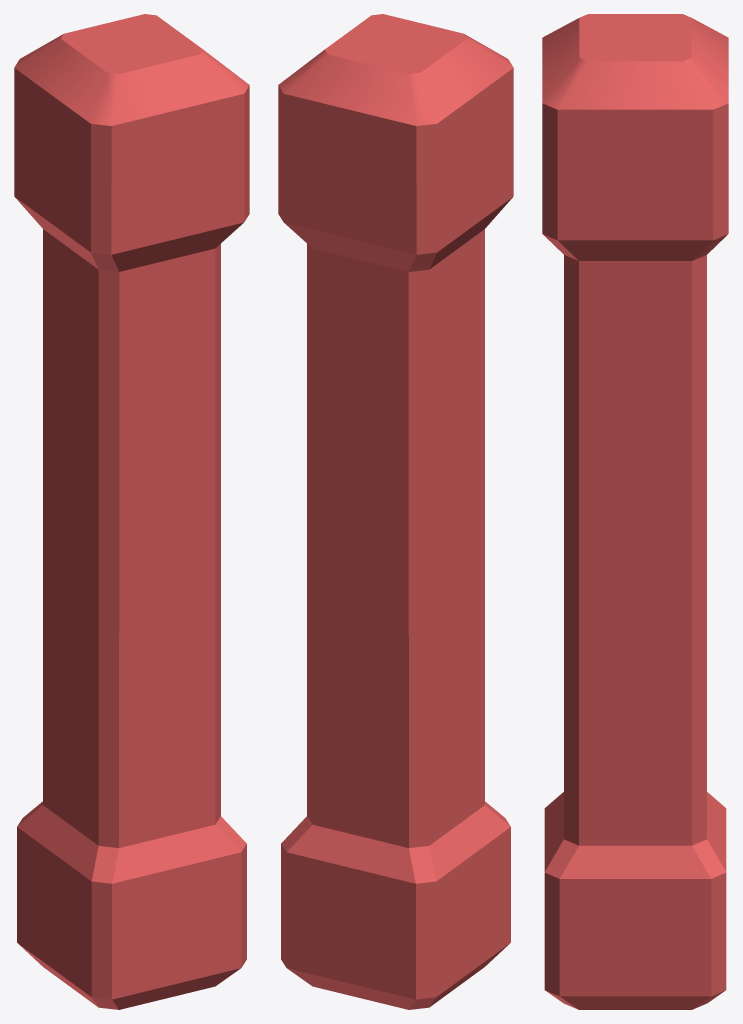
File: lavaDing_10.fbx
The picture shows the model from 3 angles, left to right: view 1: azimuth 30°, elevation 25°; view 2: azimuth 150°, elevation 25°; view 3: azimuth 270°, elevation 25°; orthographic projection.
Parts seen in each view (by area): view 1: Cube.035; view 2: Cube.035; view 3: Cube.035.
Boxes of the visible parts, <box> form: Cube.035: <box>14,14,249,1009</box>; Cube.035: <box>278,14,513,1009</box>; Cube.035: <box>542,14,728,1009</box>.
Size of the model in its own units: 41.18 by 230 by 41.18.
